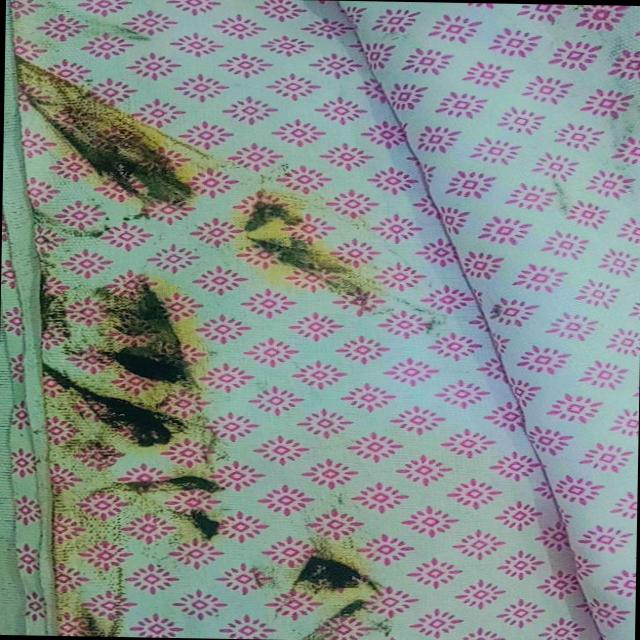stain: (29, 266, 236, 638), (14, 53, 228, 222), (227, 180, 386, 304), (263, 536, 412, 635)
